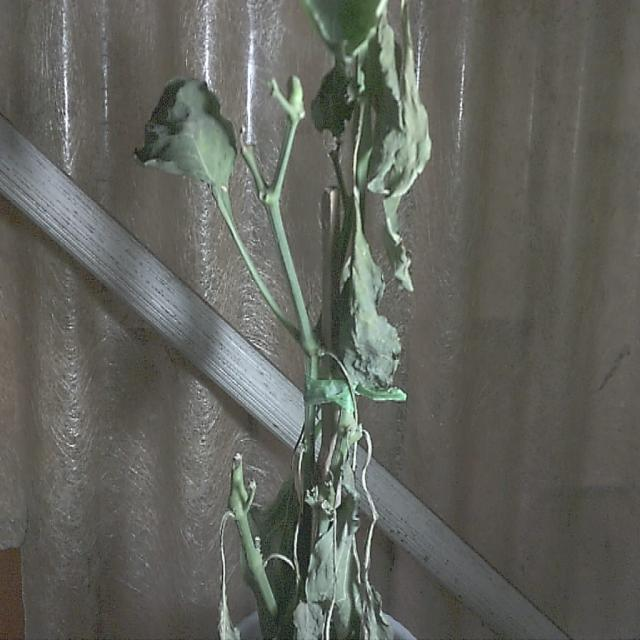Leaf: (132, 73, 238, 188), (336, 232, 402, 391)
